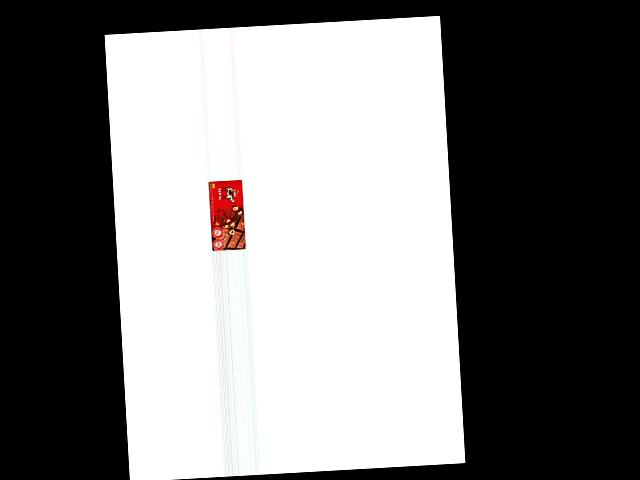chocolate: (207, 179, 246, 251)
